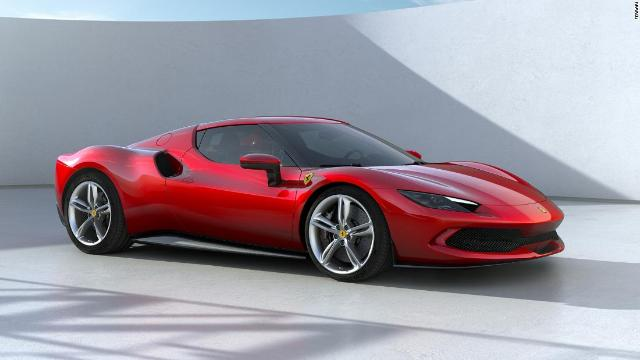ferrari: (55, 116, 565, 283)
